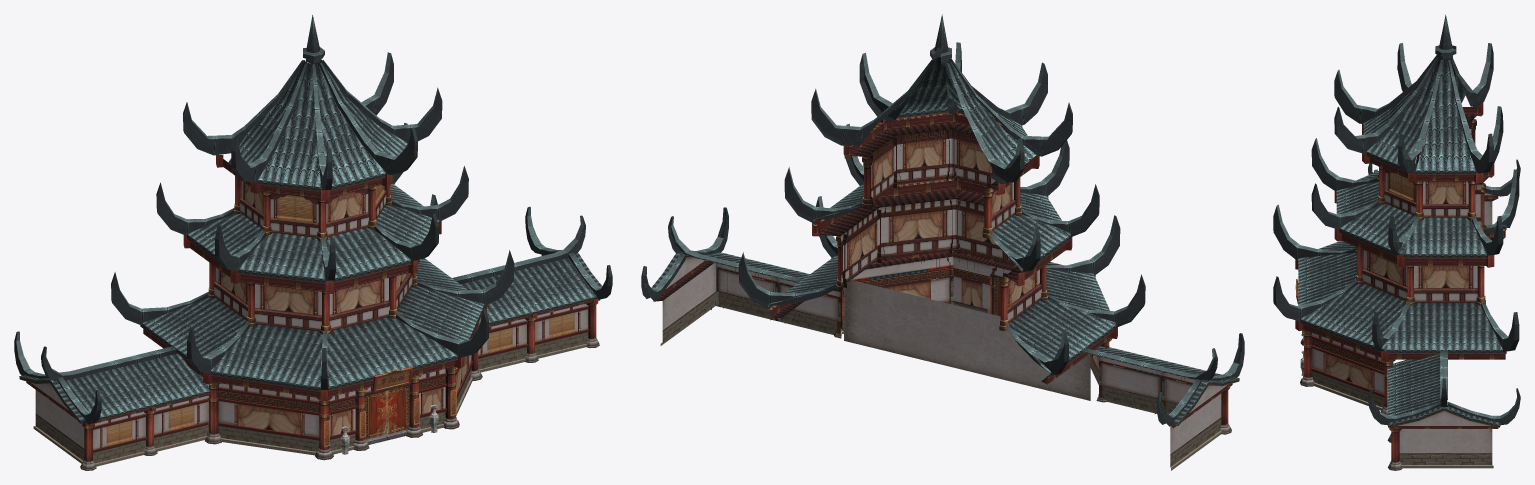
The model's file is xsz_fangzi_1.FBX.
3 renders of one model, left to right at view 1: azimuth 30°, elevation 25°; view 2: azimuth 150°, elevation 25°; view 3: azimuth 270°, elevation 25°, orthographic. The views are drawn at different scales.
Visible parts, largest first — view 1: xsz_fangzi_1; view 2: xsz_fangzi_1; view 3: xsz_fangzi_1.
Boxes of the visible parts, x1,y1,x2,y2 form: xsz_fangzi_1: (14,15,612,470); xsz_fangzi_1: (641,14,1244,470); xsz_fangzi_1: (1273,14,1520,470).
Size of the model in its own units: 2913 by 1254 by 1907.
